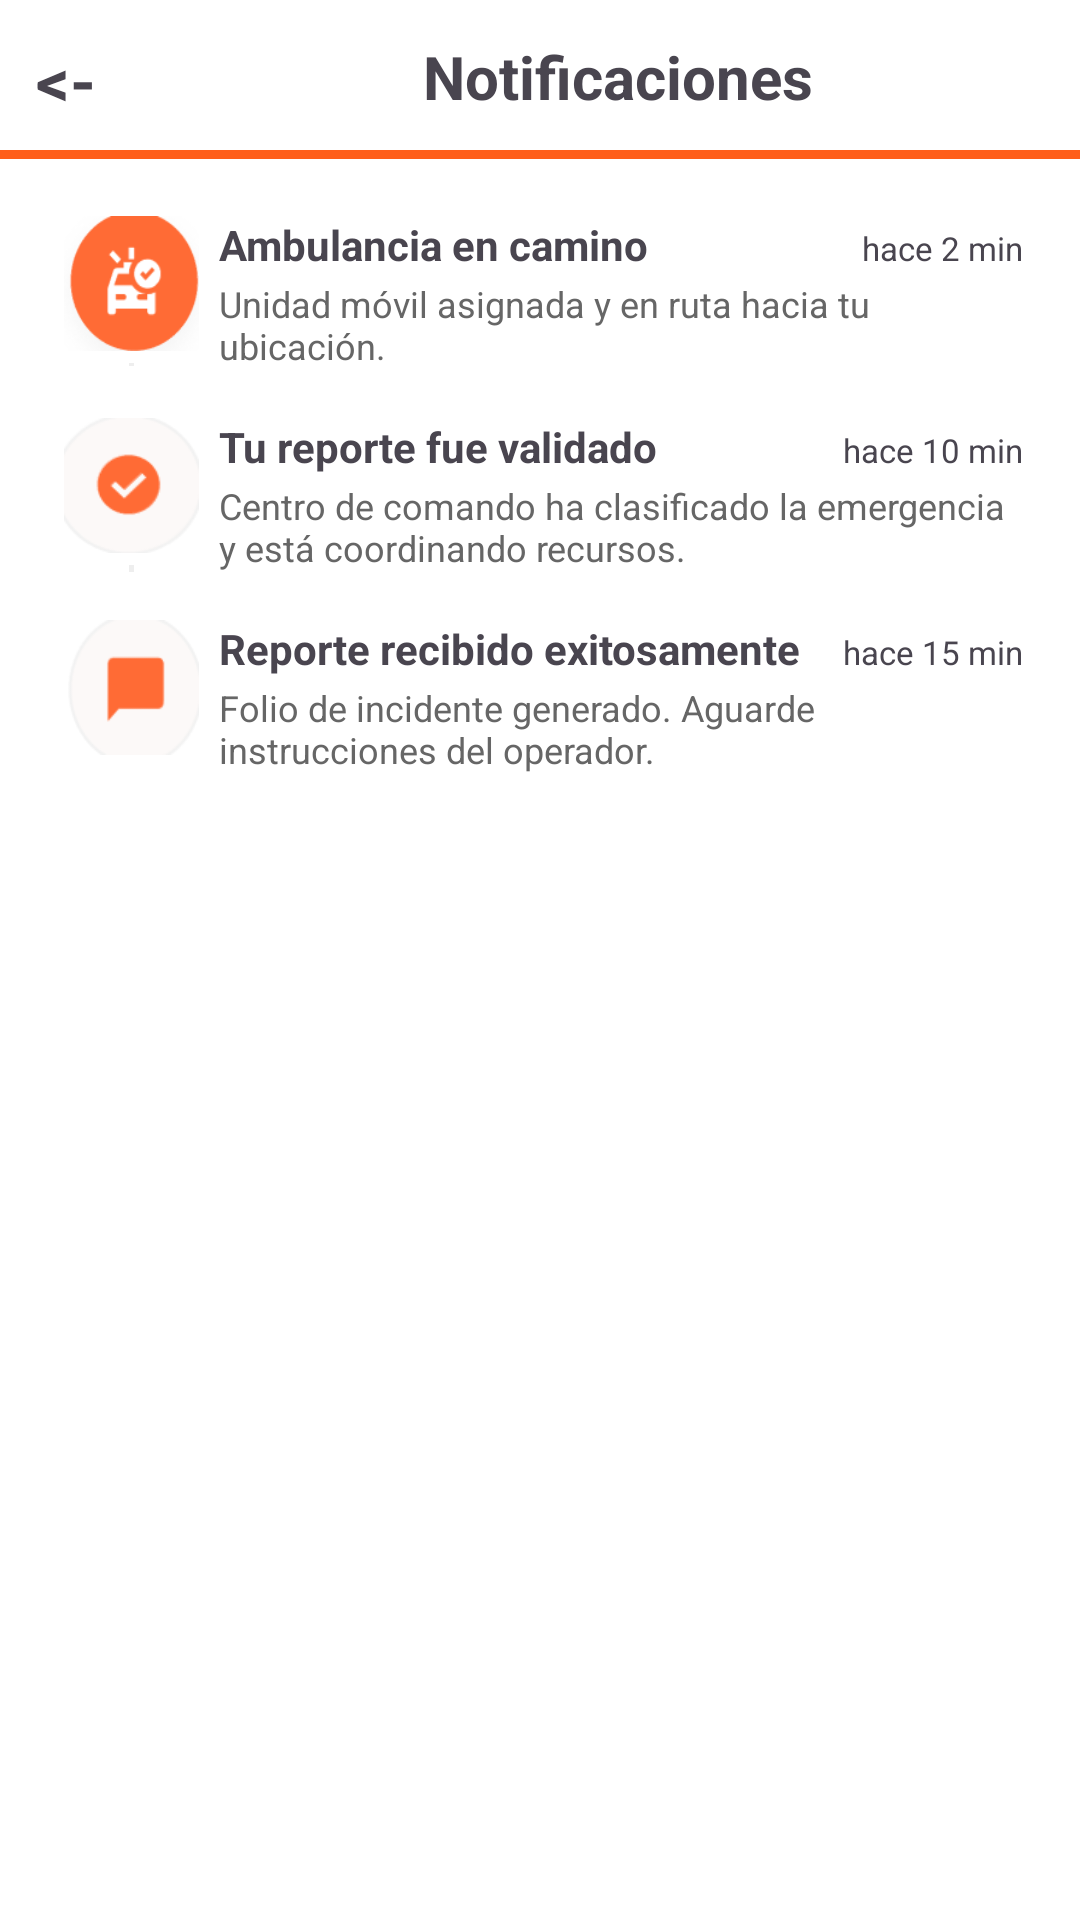

Locate icon controls on the screen. Image size 1080×1920, boxes as (x1, y1, x2, y2).
listo: (96, 454, 161, 515)
